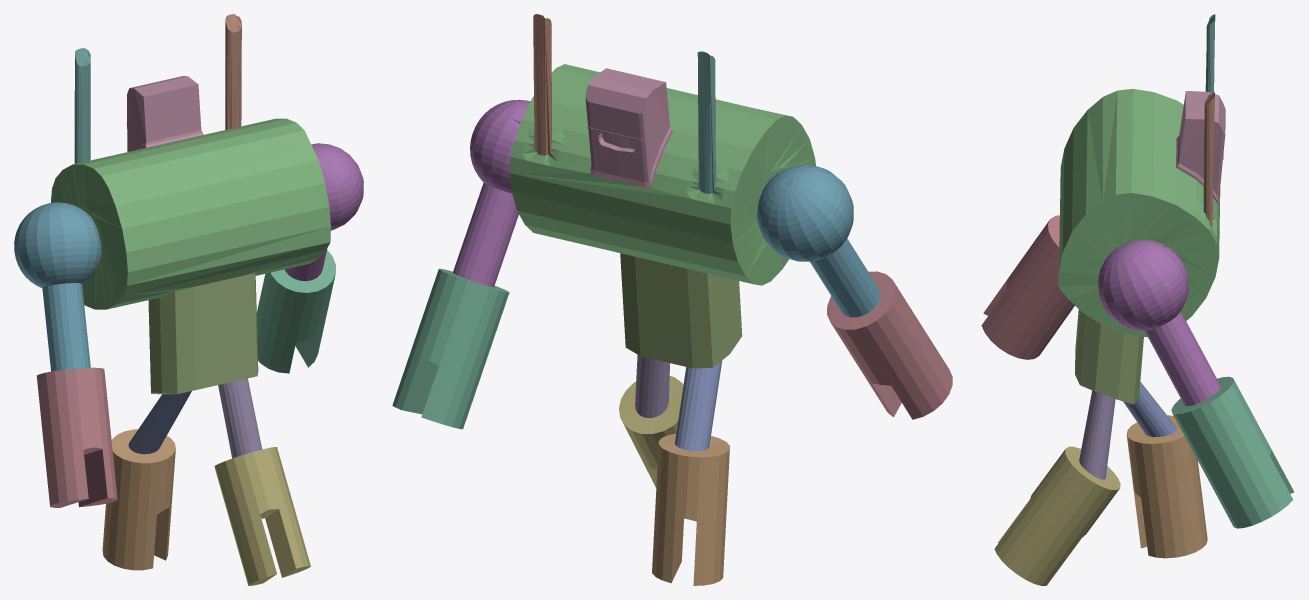
Rendered from 1d97ec688546_seg.glb.
3 views of the same model, side by side, from view 1: azimuth 30°, elevation 25°; view 2: azimuth 150°, elevation 25°; view 3: azimuth 270°, elevation 25° (orthographic). The views are drawn at different scales.
Visible parts, largest first — view 1: p00, p04, p08, p09, p05, p03, p10, p01, p07, p12, p06, p02 (+1 smaller); view 2: p00, p04, p10, p08, p09, p03, p01, p07, p11, p05, p06, p02 (+1 smaller); view 3: p00, p07, p10, p05, p03, p09, p04, p01, p12, p11, p06, p02.
Boxes of the visible parts, box(x1,y1,x2,y2) form: p00: box(51, 118, 330, 309); p04: box(148, 273, 258, 394); p08: box(14, 202, 101, 371); p09: box(36, 367, 117, 507); p05: box(214, 447, 310, 585); p03: box(102, 429, 175, 570); p10: box(256, 250, 335, 373); p01: box(126, 76, 203, 151); p07: box(284, 143, 363, 281); p12: box(218, 378, 262, 458); p06: box(225, 14, 241, 129); p02: box(74, 48, 90, 163); p00: box(509, 64, 815, 285); p04: box(620, 253, 742, 368); p10: box(392, 268, 509, 429); p08: box(757, 165, 880, 317); p09: box(827, 271, 952, 419); p03: box(652, 433, 729, 585); p01: box(585, 68, 672, 187); p07: box(453, 99, 530, 287); p11: box(675, 360, 722, 451); p05: box(619, 376, 683, 487); p06: box(533, 14, 551, 155); p02: box(697, 51, 715, 193); p00: box(1058, 88, 1220, 337); p07: box(1098, 239, 1220, 406); p10: box(1171, 376, 1293, 528); p05: box(994, 446, 1120, 585); p03: box(1126, 415, 1207, 558); p09: box(981, 215, 1074, 359); p04: box(1075, 309, 1143, 404); p01: box(1176, 91, 1225, 204); p12: box(1079, 390, 1115, 479); p11: box(1123, 382, 1176, 436); p06: box(1203, 92, 1214, 226); p02: box(1205, 14, 1215, 92).
Bounding box in the file's own units: 0.7976 × 1 × 0.5508.
